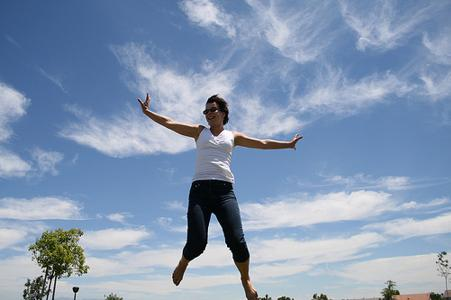person: (139, 95, 299, 300)
